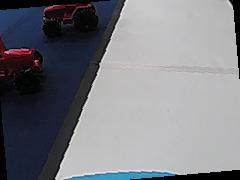Tracktor: (0, 34, 45, 94), (40, 1, 99, 35)
